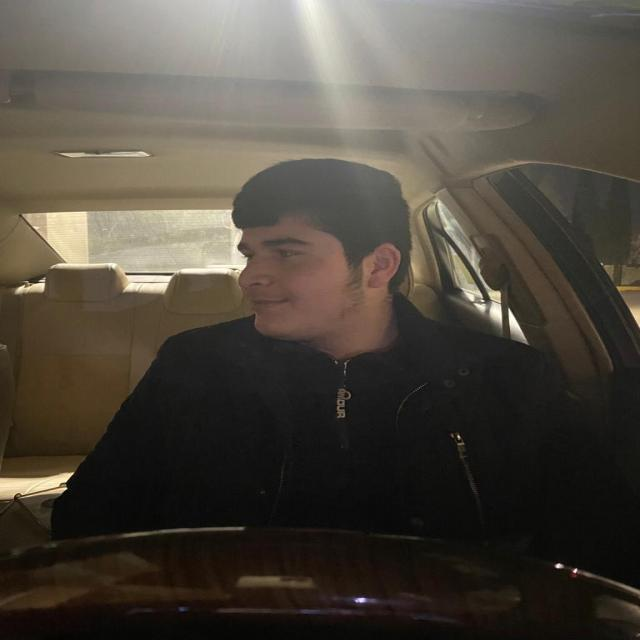LeftRight: (220, 160, 430, 353)
